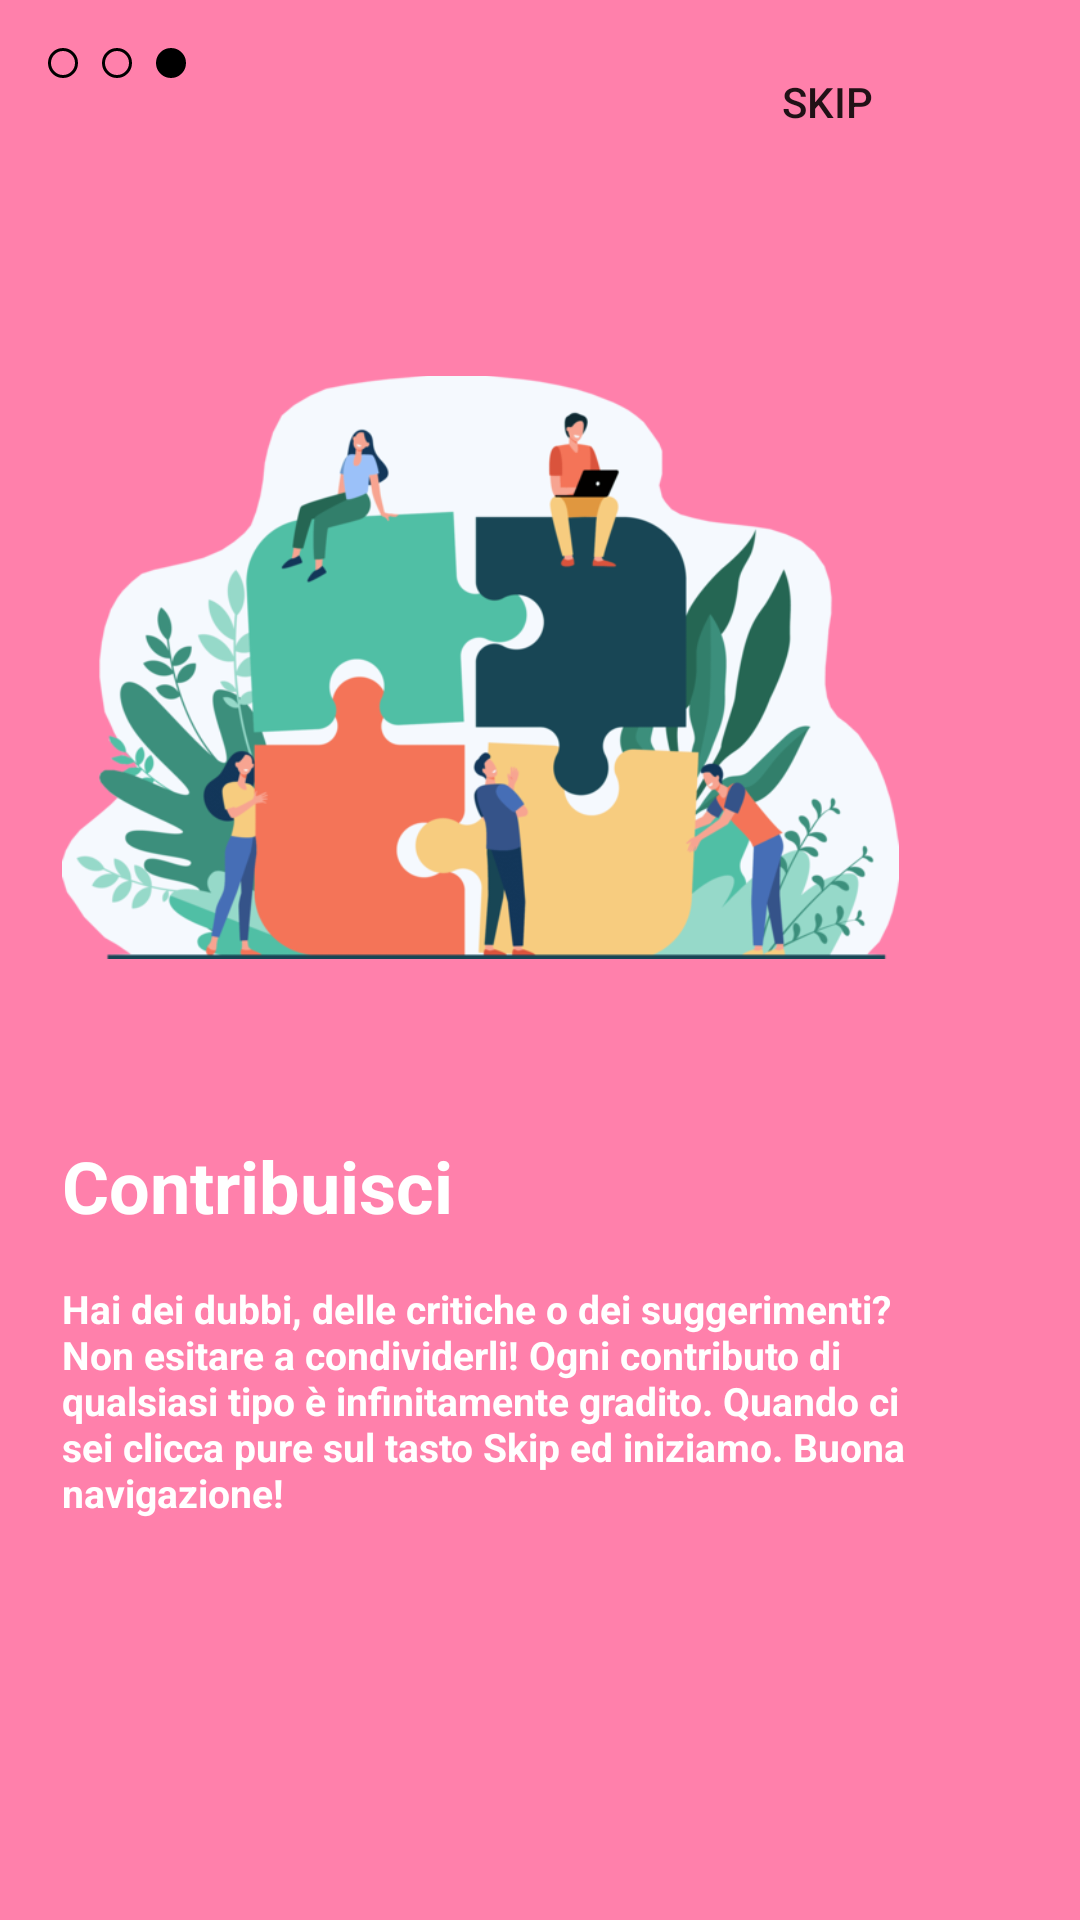

Icon bounding boxes for this 1080px x 1920px phone screenshot, format (x1, y1, x2, y2):
circle: (156, 48, 186, 78)
circle blank: (48, 48, 78, 78), (102, 48, 132, 78)
